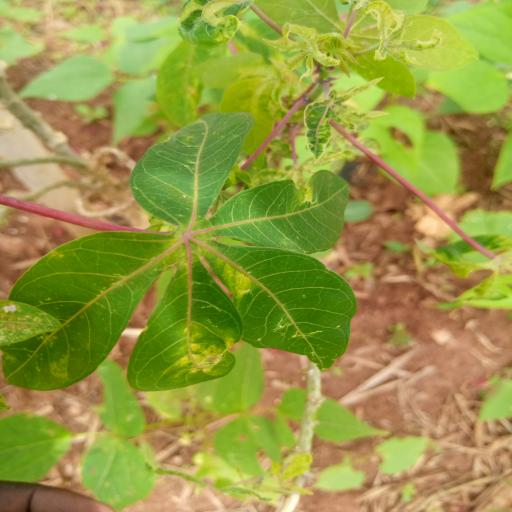Cassava_Mosaic: (3, 108, 358, 394)
